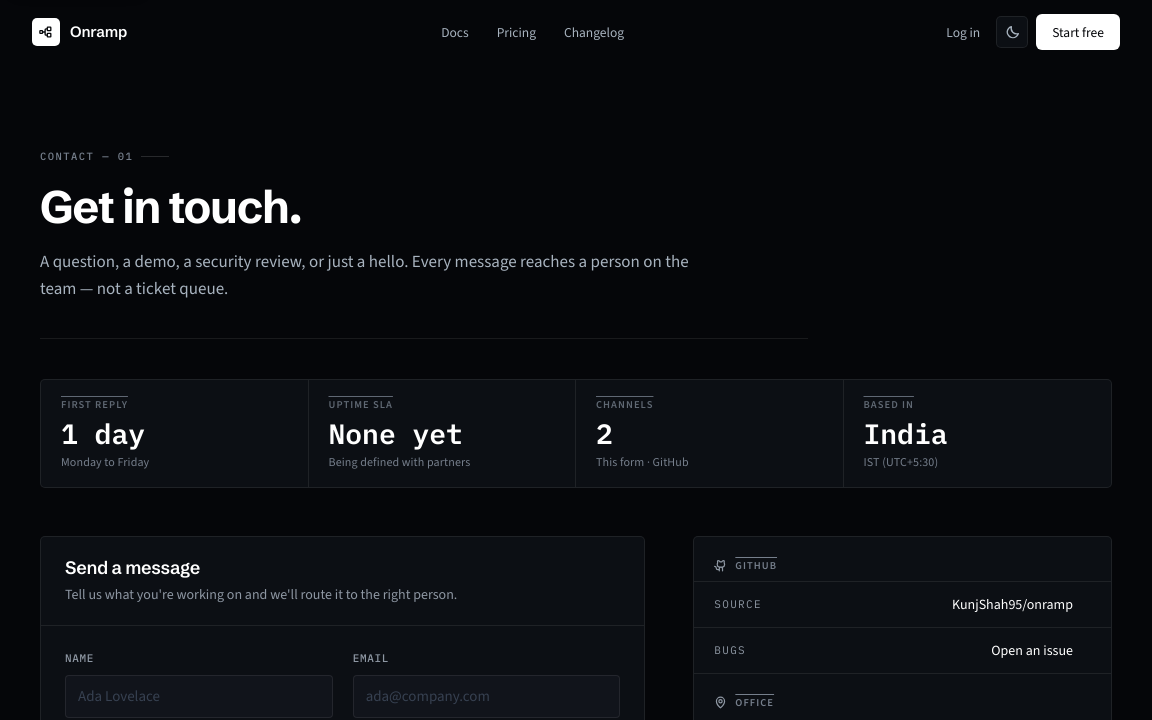
Test: ContactPage form › submits the message as a lead instead of discarding it
The width and height of the screenshot is (1152, 720).
Type "Ada" into the field labelled "Name". click: (199, 696)
box: x1=65 y1=675 x2=333 y2=718
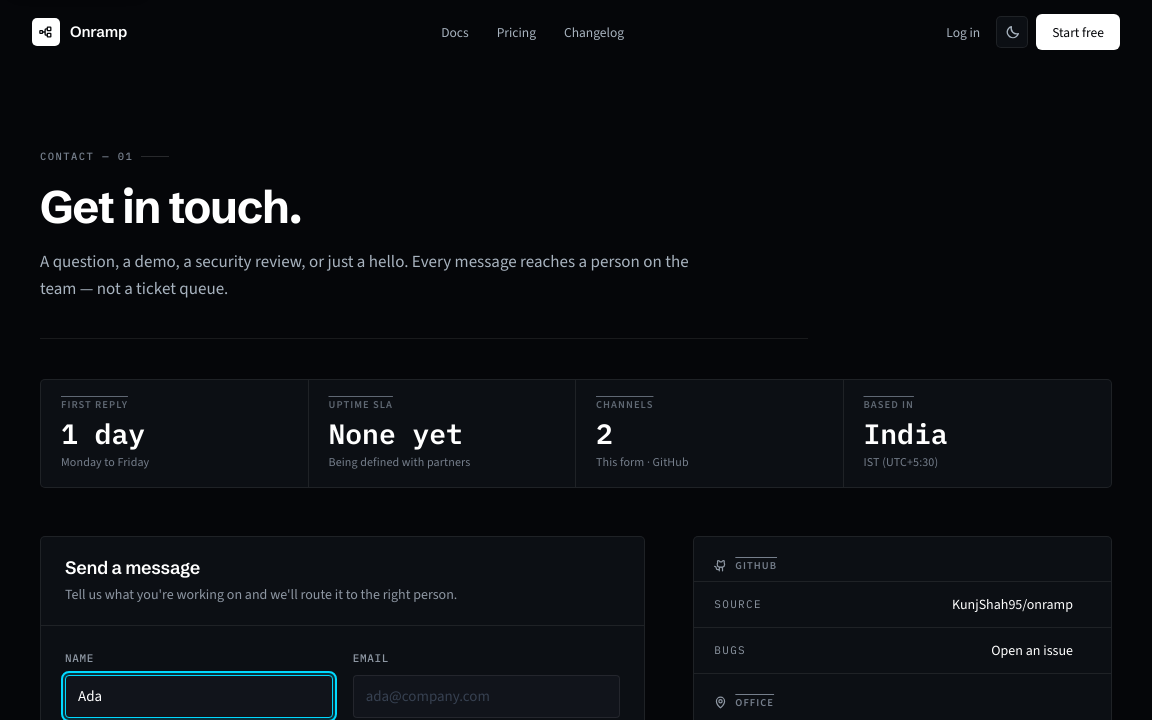
Type "ada@example.com" into the field labelled "Email". click: (487, 696)
box: x1=353 y1=675 x2=620 y2=718
(page scrolled)
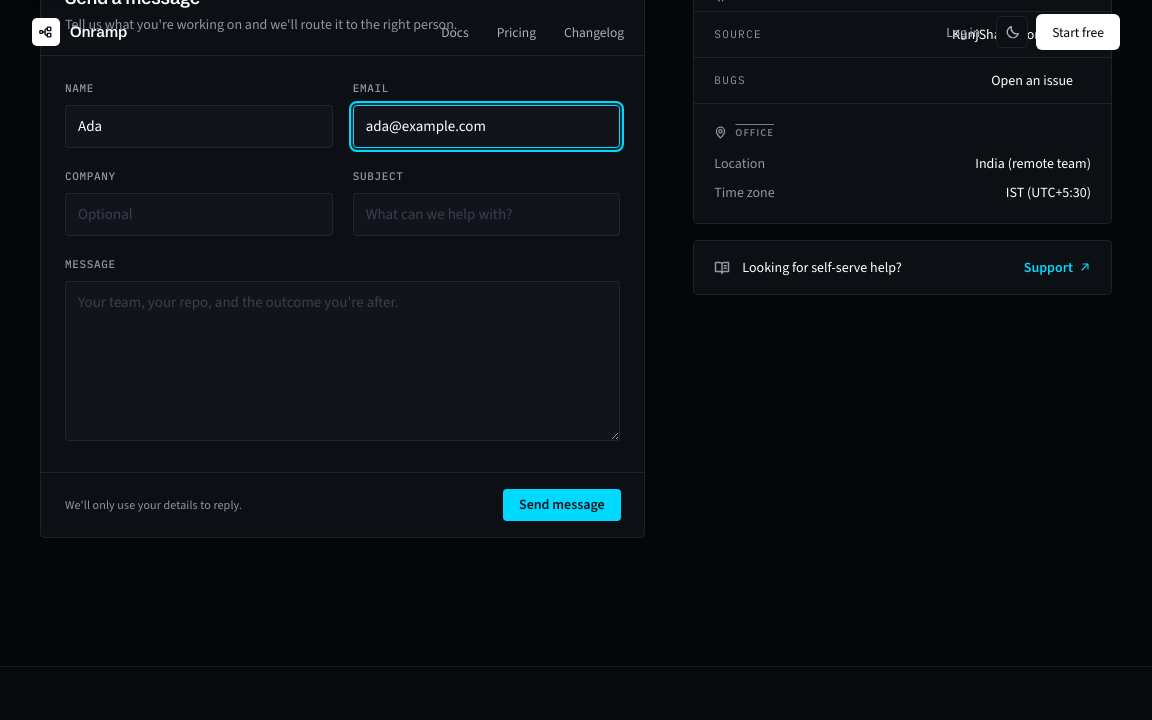
Type "We hire every quarter." into the text box labelled "Message". click: (343, 361)
box: x1=65 y1=281 x2=620 y2=441
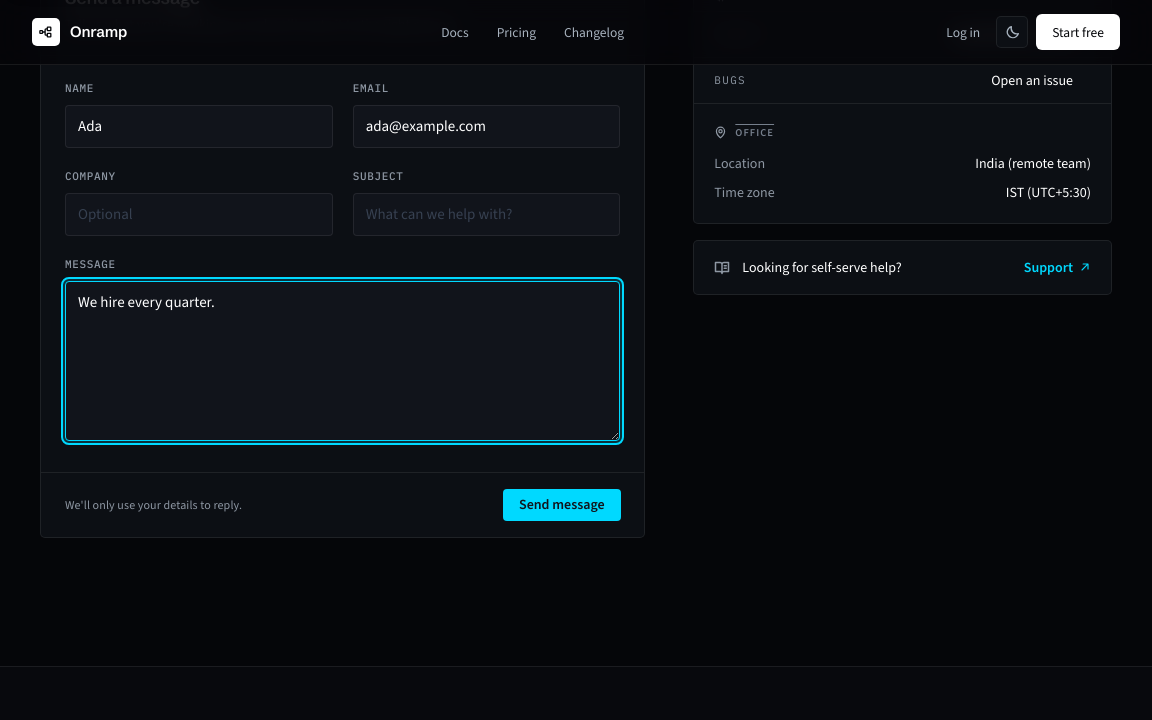
Click the button "Send message". click: click(562, 505)
box: x1=503 y1=489 x2=620 y2=521
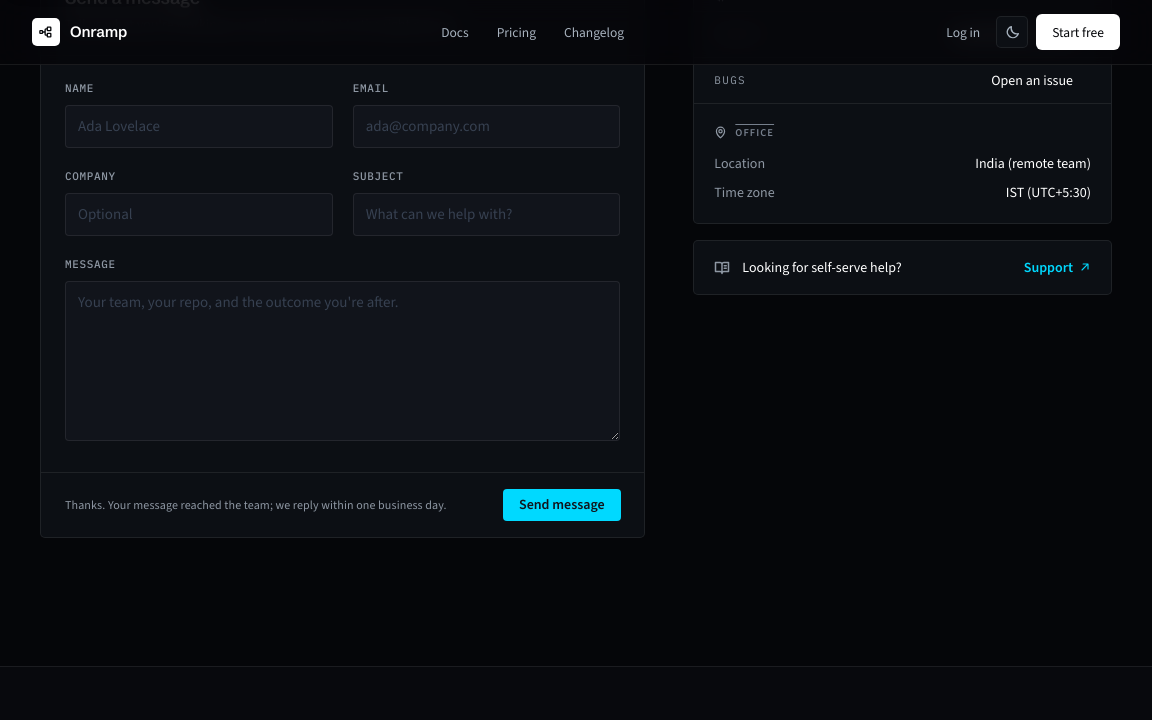
Check: the text "Thanks. Your message reached the team; we reply within one business day." is shown, box x1=65 y1=496 x2=447 y2=513
